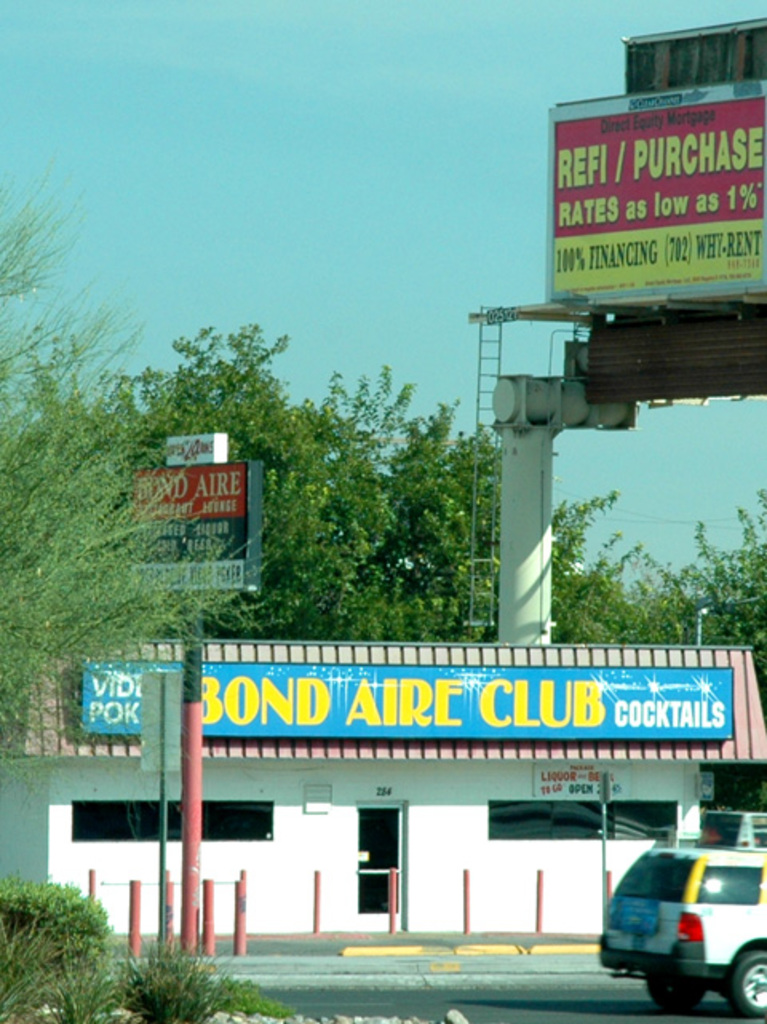Car: (599, 830, 765, 1019)
